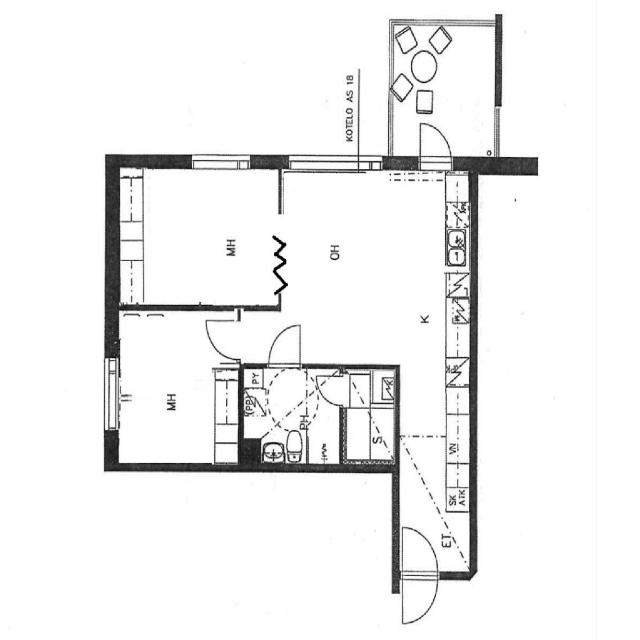door: (398, 524, 442, 629), (200, 307, 246, 363), (414, 116, 458, 173), (264, 318, 307, 370), (314, 370, 347, 409)
window: (281, 149, 384, 178), (99, 348, 124, 441), (185, 147, 258, 175), (384, 25, 398, 94)
zone: (268, 169, 472, 361), (119, 164, 281, 308), (114, 309, 240, 468), (242, 366, 344, 466), (343, 364, 397, 467), (396, 527, 441, 624)
